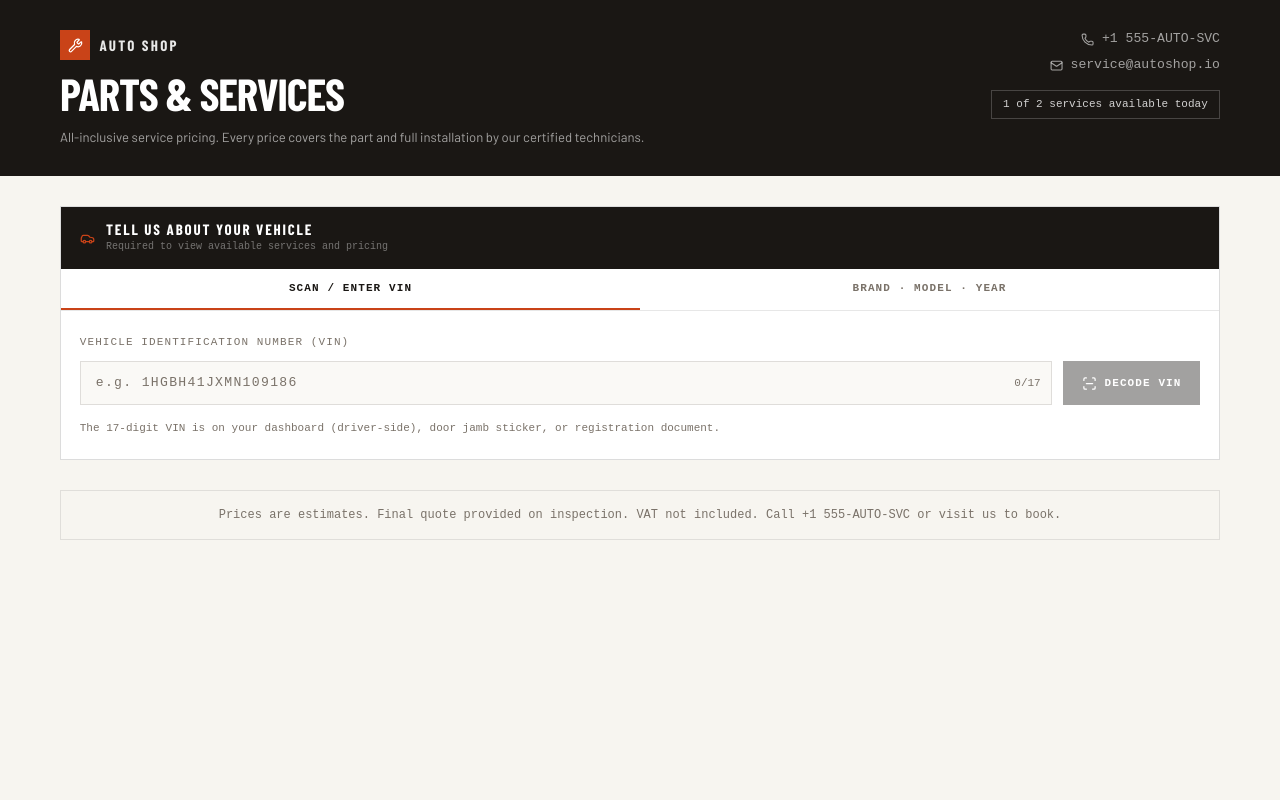
Test: CustomerPortal vehicle gate › decodes a VIN and then lists services for that vehicle
Type "1FTFW1E50MFA00001" into the field with placeholder "e.g. 1HGBH41JXMN109186". click: (566, 383)
box: left=80, top=361, right=1052, bottom=405
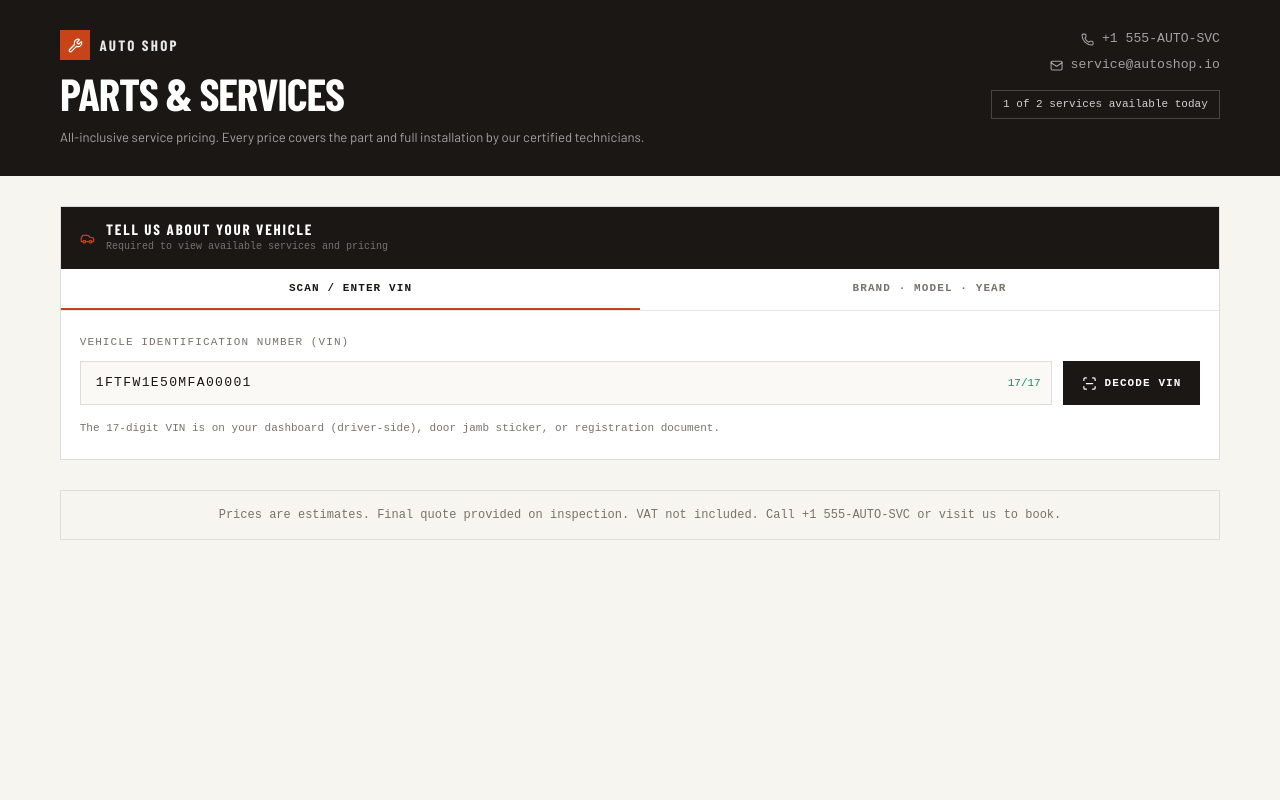
Click the button "Decode VIN". click: click(1132, 383)
box: left=1063, top=361, right=1200, bottom=405
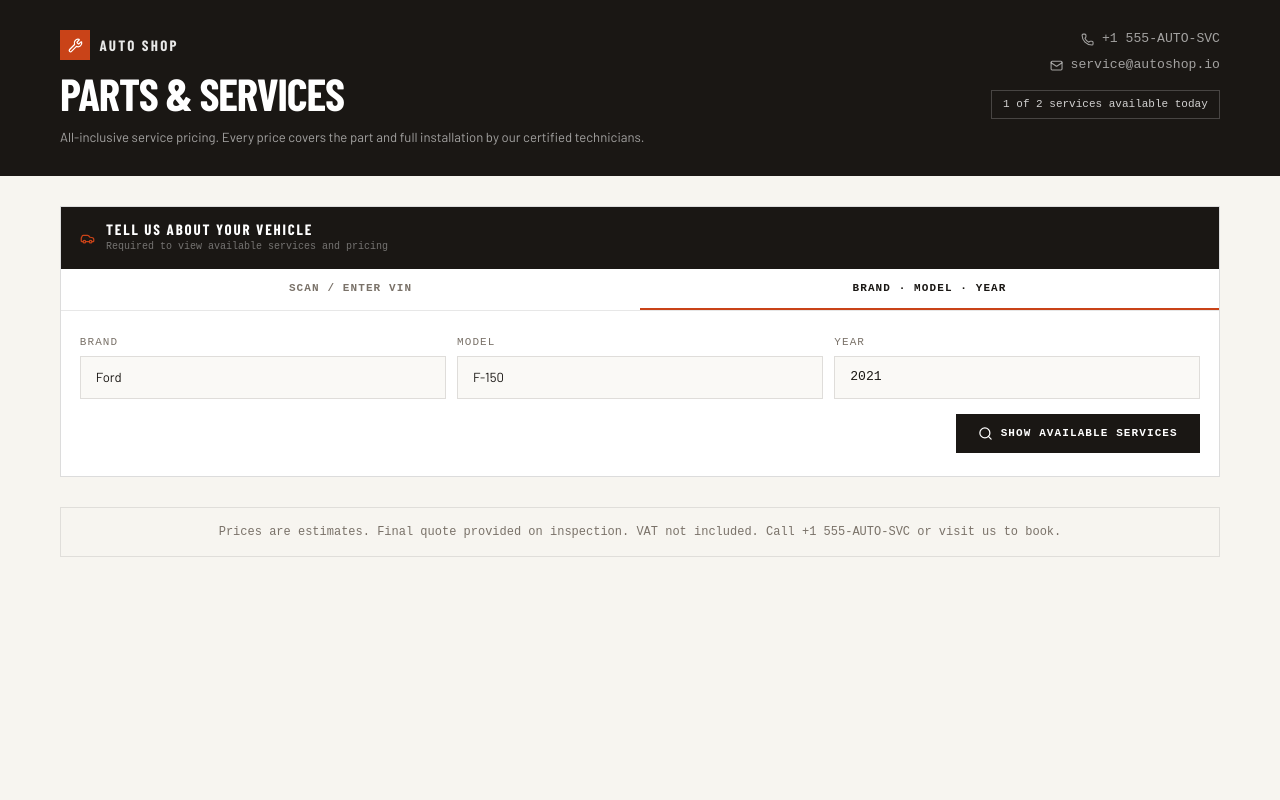
Click the button "Show Available Services". click: click(1078, 434)
box: left=956, top=414, right=1200, bottom=453
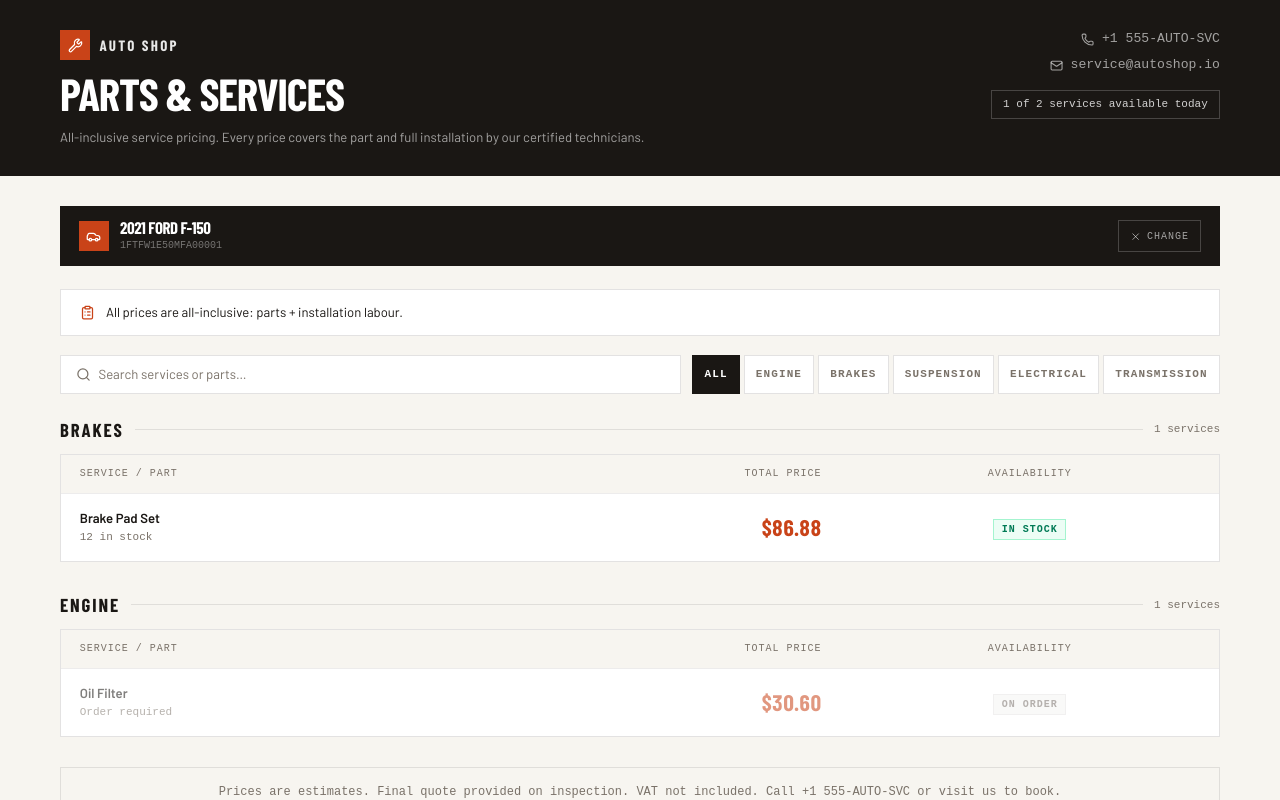
Expected: the text "2021 FORD F-150" is shown, left=120, top=219, right=222, bottom=236
Expected: the text "1FTFW1E50MFA00001" is shown, left=120, top=238, right=222, bottom=253
Expected: the text "Brake Pad Set" is shown, left=80, top=510, right=160, bottom=526
